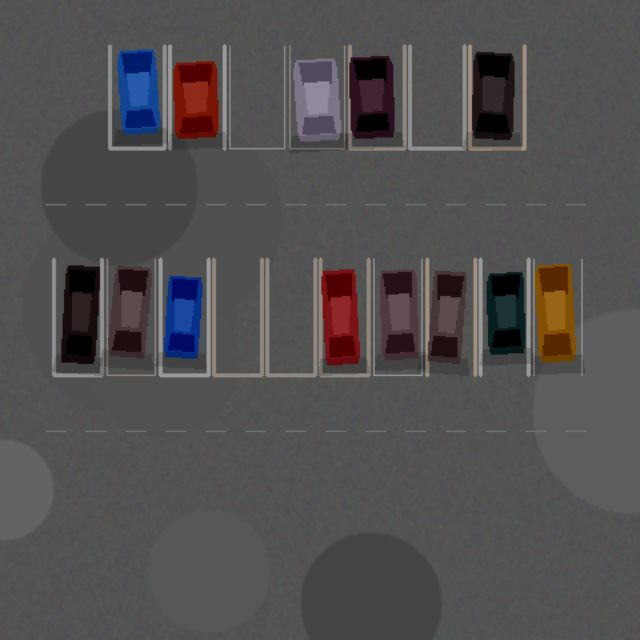space-empty: (229, 45, 284, 148), (409, 45, 464, 148), (213, 259, 261, 375), (267, 259, 315, 375)
space-occupied: (109, 45, 164, 148), (169, 45, 224, 148), (289, 45, 344, 148), (349, 45, 404, 148), (469, 45, 524, 148), (53, 259, 101, 375), (107, 259, 155, 375), (160, 259, 208, 375), (320, 259, 368, 375), (373, 259, 421, 375), (427, 259, 475, 375), (480, 259, 528, 375), (533, 259, 581, 375)
